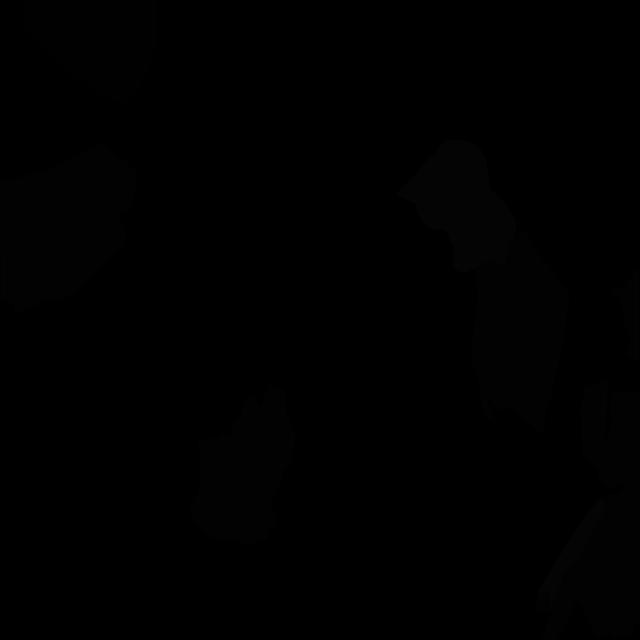cardboard: (0, 143, 138, 314), (470, 229, 569, 436), (190, 384, 295, 546), (534, 513, 640, 640), (598, 391, 640, 610), (580, 379, 621, 489), (610, 265, 639, 361)
rigid_plastic: (24, 0, 158, 103)
soft_plastic: (396, 140, 516, 272), (537, 496, 604, 608)
